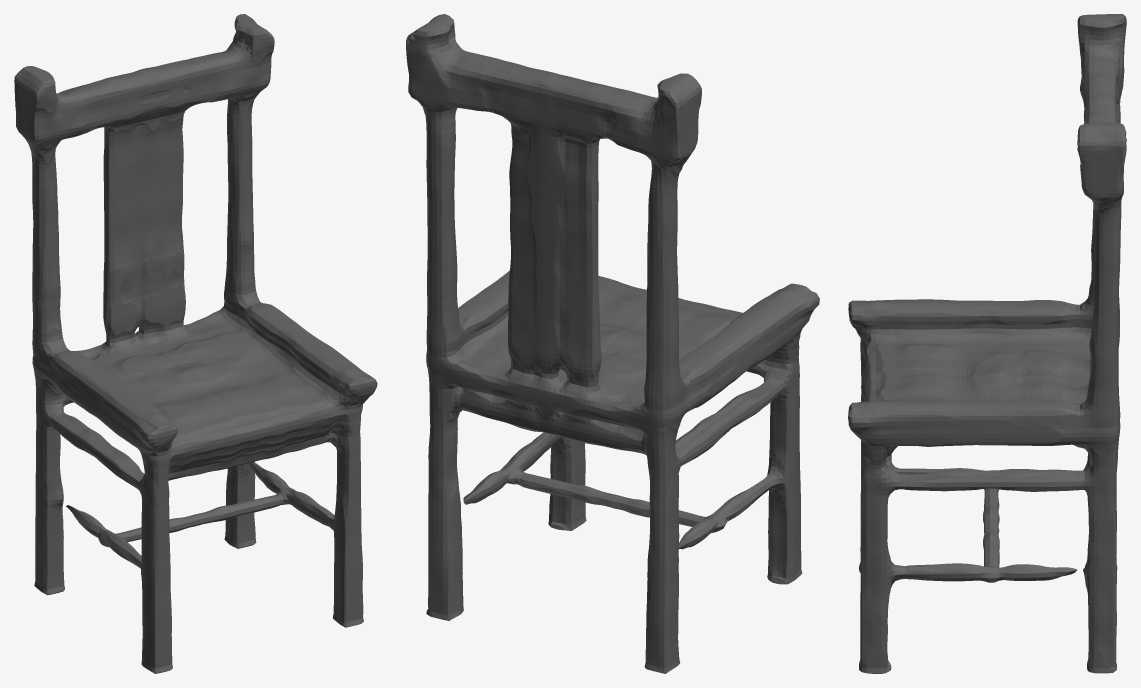
The model's file is chair_uv.obj.
3 views of the same model, side by side, from view 1: azimuth 30°, elevation 25°; view 2: azimuth 150°, elevation 25°; view 3: azimuth 270°, elevation 25° (orthographic). The views are drawn at different scales.
Bounding box in the file's own units: 0.4861 × 1 × 0.4607.
1 material, 1 textured.
